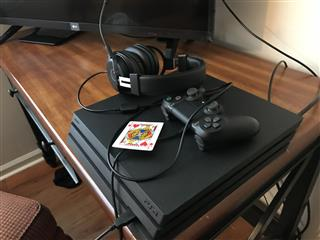JackOfHearts: (111, 120, 164, 151)
